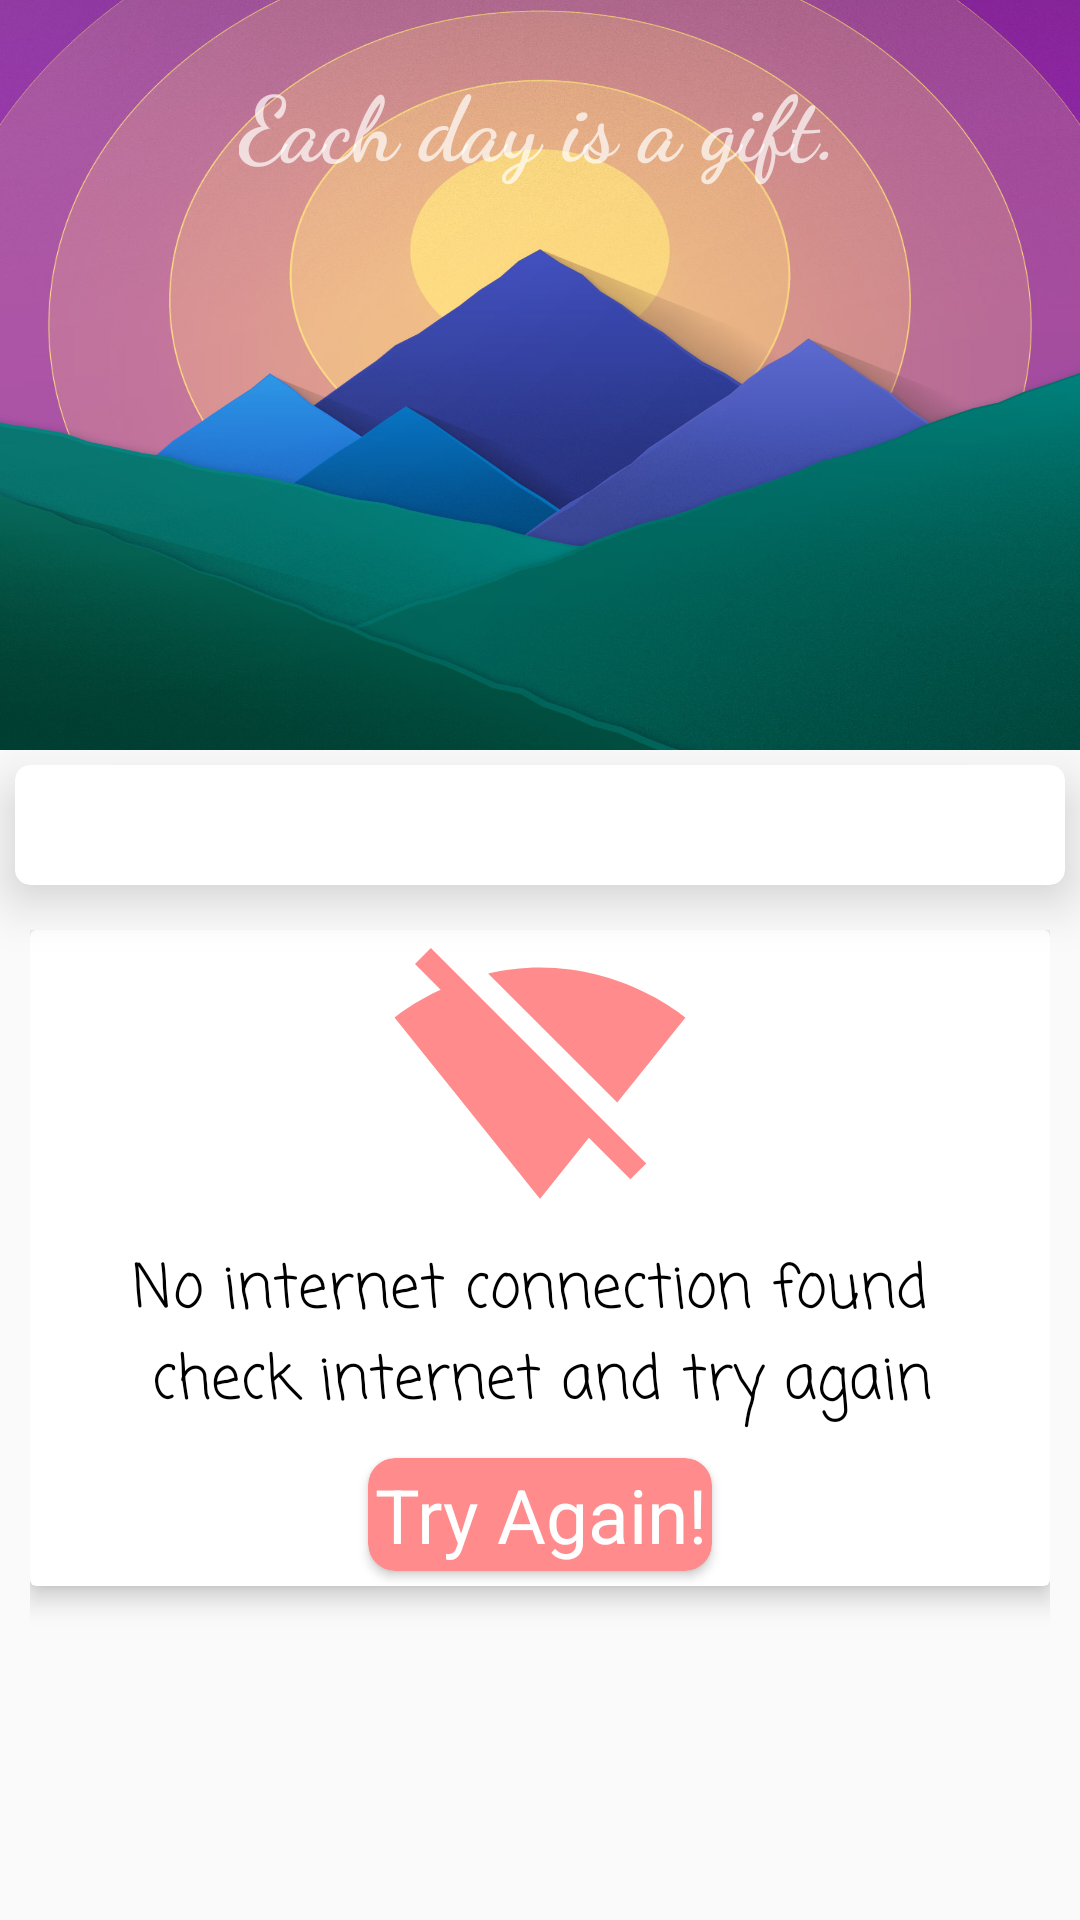

Icons on this 1080px x 1920px Android screen, each with its box as {"left": x1, "top": y1, "right": x2, "bottom": y2}:
signal wifi off: {"left": 394, "top": 948, "right": 685, "bottom": 1199}
